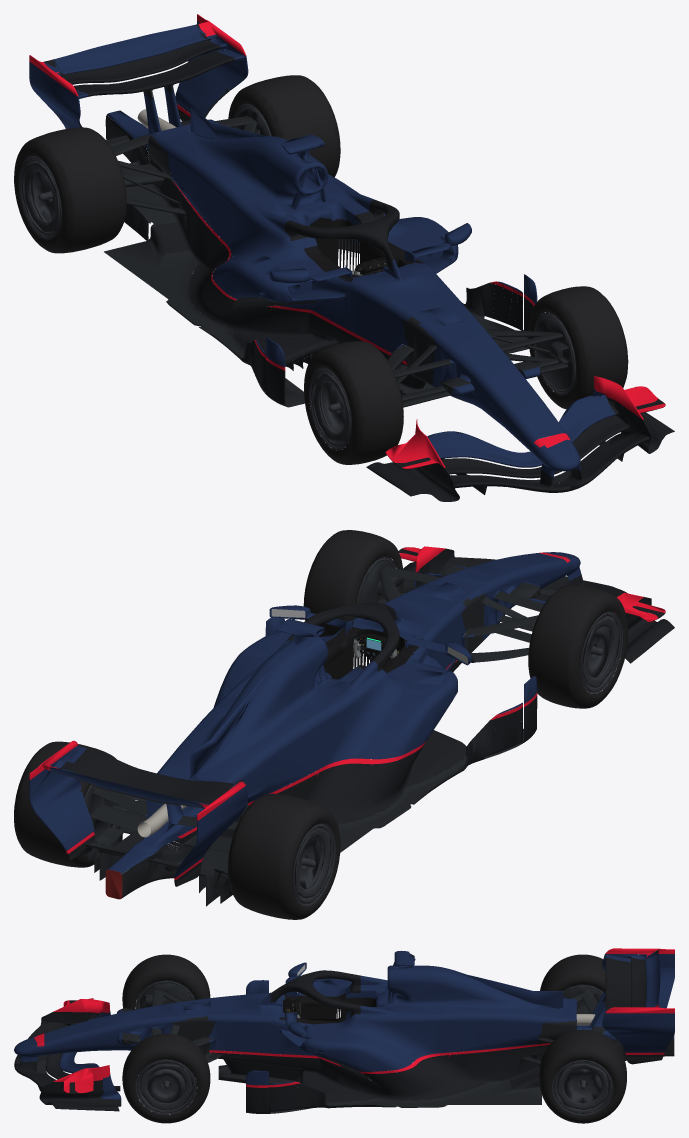
3 views of the same model, one above another, from view 1: azimuth 30°, elevation 25°; view 2: azimuth 150°, elevation 25°; view 3: azimuth 270°, elevation 25° (orthographic). The views are drawn at different scales.
Parts seen in each view (by area): view 1: body, wheel_RR, wheel_FR, wheel_FL, wheel_RL, flap_R2, flap_R1, flap_FR2, flap_FL2, hub_FL, flap_FR1, flap_FL1; view 2: body, wheel_RR, wheel_FR, wheel_FL, wheel_RL, hub_RL, flap_R2, flap_R1, steering_wheel, hub_FL; view 3: body, wheel_RL, wheel_FL, wheel_FR, wheel_RR, flap_R1, flap_R2, flap_FL2, hub_FR, hub_RR.
Part boxes in pixels (x1=…): body: x1=29, y1=14, x2=674, y2=501; wheel_RR: x1=14, y1=127, x2=126, y2=253; wheel_FR: x1=304, y1=341, x2=403, y2=464; wheel_FL: x1=528, y1=286, x2=628, y2=409; wheel_RL: x1=228, y1=75, x2=340, y2=177; flap_R2: x1=44, y1=24, x2=209, y2=75; flap_R1: x1=60, y1=39, x2=220, y2=84; flap_FR2: x1=415, y1=431, x2=539, y2=467; flap_FL2: x1=530, y1=388, x2=615, y2=465; hub_FL: x1=536, y1=317, x2=573, y2=389; flap_FR1: x1=441, y1=458, x2=541, y2=478; flap_FL1: x1=539, y1=417, x2=624, y2=474; body: x1=29, y1=546, x2=674, y2=906; wheel_RR: x1=227, y1=793, x2=340, y2=919; wheel_FR: x1=528, y1=585, x2=627, y2=708; wheel_FL: x1=303, y1=530, x2=403, y2=653; wheel_RL: x1=14, y1=741, x2=120, y2=867; hub_RL: x1=85, y1=785, x2=124, y2=872; flap_R2: x1=49, y1=767, x2=208, y2=808; flap_R1: x1=51, y1=761, x2=217, y2=808; steering_wheel: x1=353, y1=633, x2=399, y2=660; hub_FL: x1=356, y1=561, x2=392, y2=617; body: x1=14, y1=948, x2=674, y2=1113; wheel_RL: x1=539, y1=1029, x2=626, y2=1123; wheel_FL: x1=122, y1=1033, x2=210, y2=1123; wheel_FR: x1=122, y1=954, x2=210, y2=1009; wheel_RR: x1=540, y1=954, x2=605, y2=993; flap_R1: x1=631, y1=957, x2=646, y2=1007; flap_R2: x1=645, y1=950, x2=660, y2=1007; flap_FL2: x1=59, y1=1060, x2=121, y2=1099; hub_FR: x1=140, y1=980, x2=192, y2=1008; hub_RR: x1=563, y1=987, x2=602, y2=1008.
Size of the model in its own units: 1.88 by 1.1 by 5.39.
15 materials, 2 textured.
